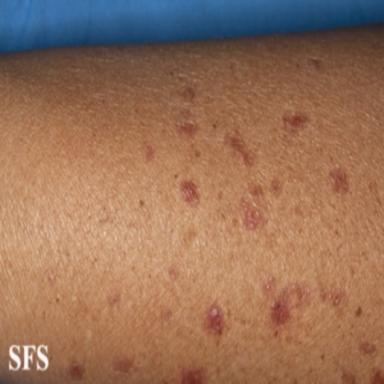Porokeratosis: (270, 282, 310, 326), (240, 185, 267, 231), (225, 134, 254, 167), (176, 108, 197, 138), (203, 304, 223, 334), (282, 111, 308, 133), (320, 288, 347, 307), (180, 181, 199, 206), (330, 169, 349, 193), (180, 369, 205, 384), (113, 357, 133, 373), (359, 340, 377, 355), (69, 363, 84, 380), (263, 277, 276, 294), (271, 179, 282, 197), (181, 87, 195, 101), (145, 144, 155, 162)
